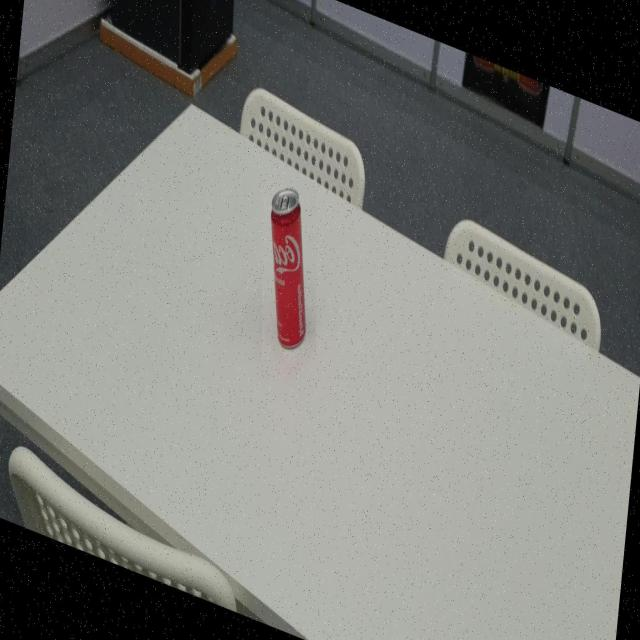coca-cola: (262, 180, 316, 361)
